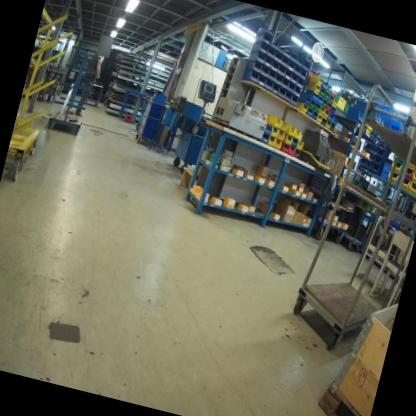pallet: (311, 376, 377, 416)
